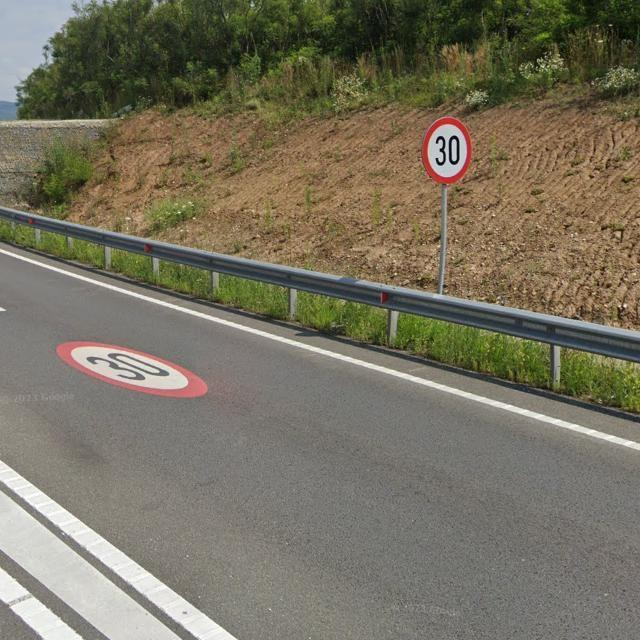forb_speed_over_30: (57, 338, 208, 397), (421, 116, 474, 183)
